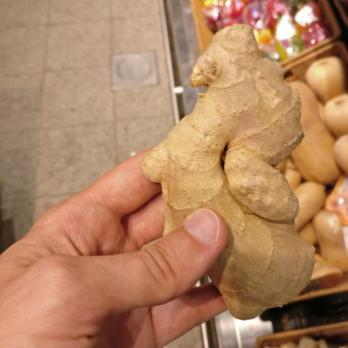Ginger: (139, 19, 315, 322)
